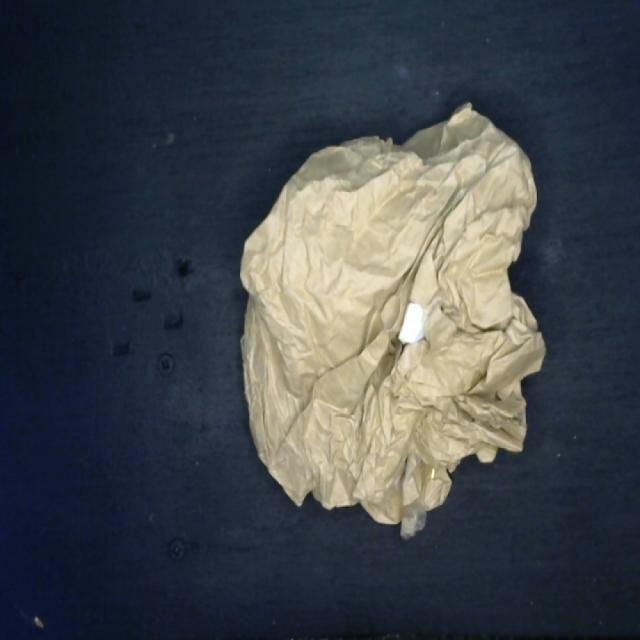biodegradable: (236, 96, 549, 544)
